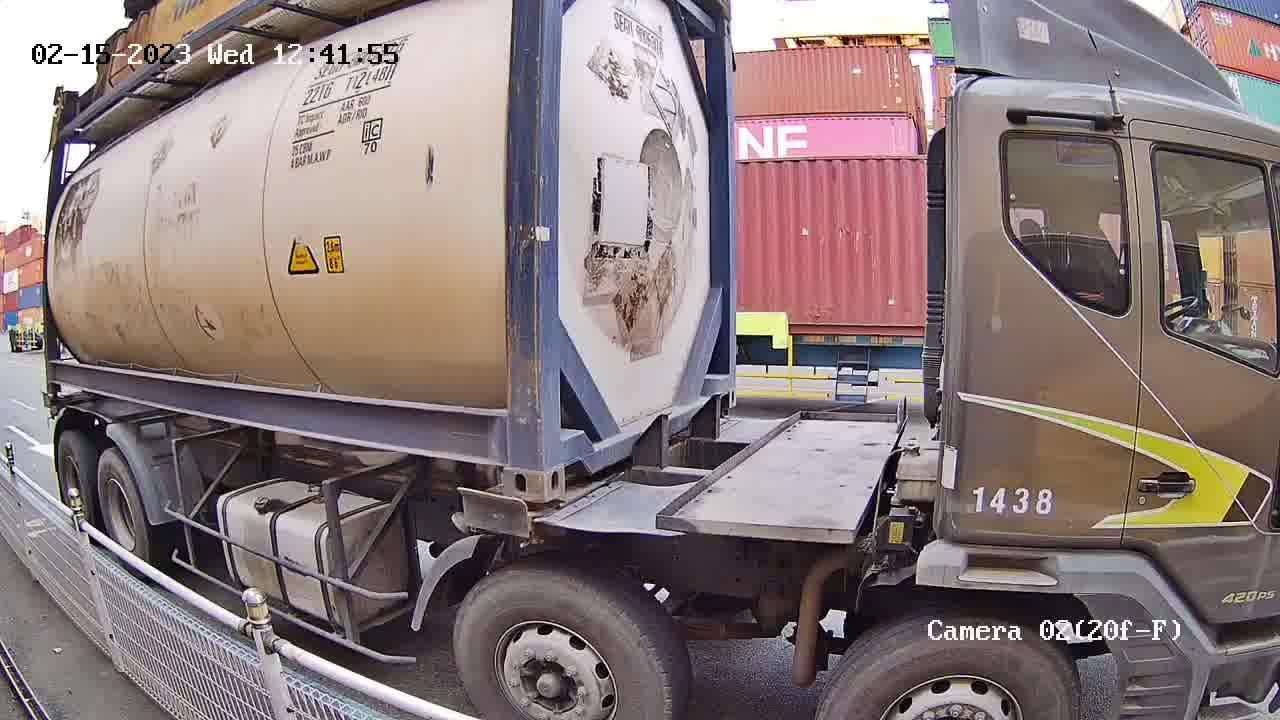Cone: (467, 494, 547, 542), (41, 383, 66, 422)
Hole_L: (544, 423, 597, 501), (45, 351, 78, 388)
Hole_R: (479, 427, 549, 498), (701, 363, 739, 417)
Tire: (452, 567, 668, 715), (819, 617, 1083, 717), (97, 450, 146, 559), (57, 433, 99, 522)
